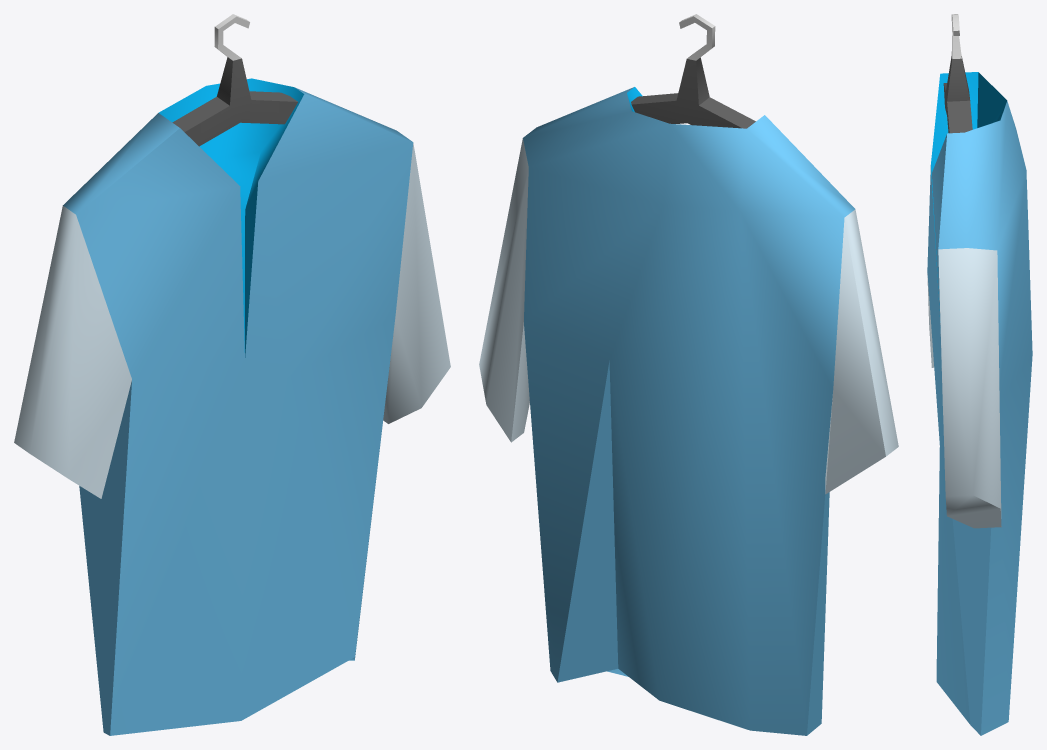
File: clothes_003.glb
3 views of the same model, side by side, from view 1: azimuth 30°, elevation 25°; view 2: azimuth 150°, elevation 25°; view 3: azimuth 270°, elevation 25° (orthographic). The views are drawn at different scales.
Parts seen in each view (by area): view 1: clothes_003; view 2: clothes_003; view 3: clothes_003.
Part boxes in pixels (<box>): clothes_003: <box>14,14,450,735</box>; clothes_003: <box>479,14,898,735</box>; clothes_003: <box>927,14,1032,735</box>.
Bounding box in the file's own units: 0.5803 × 0.9287 × 0.1321.
1 material, 1 textured.
